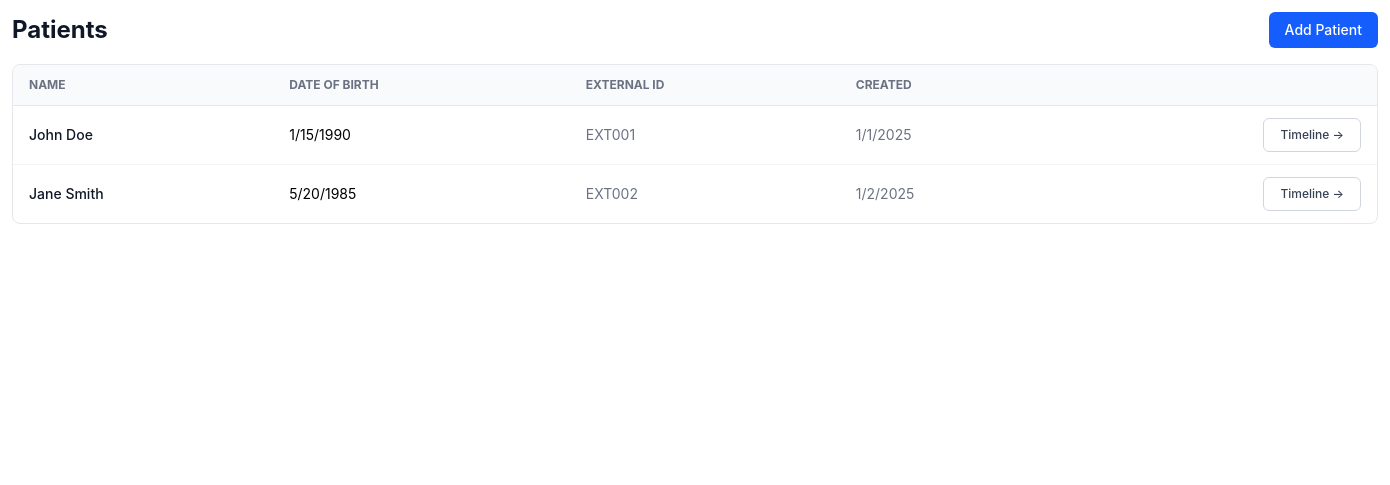
Patients page › shows add patient form when clicking Add Patient
Expected: the text "John Doe" is shown, [13,106,273,164]
Click the button "Add Patient". click: [1323, 30]
box: [1269,12,1378,48]
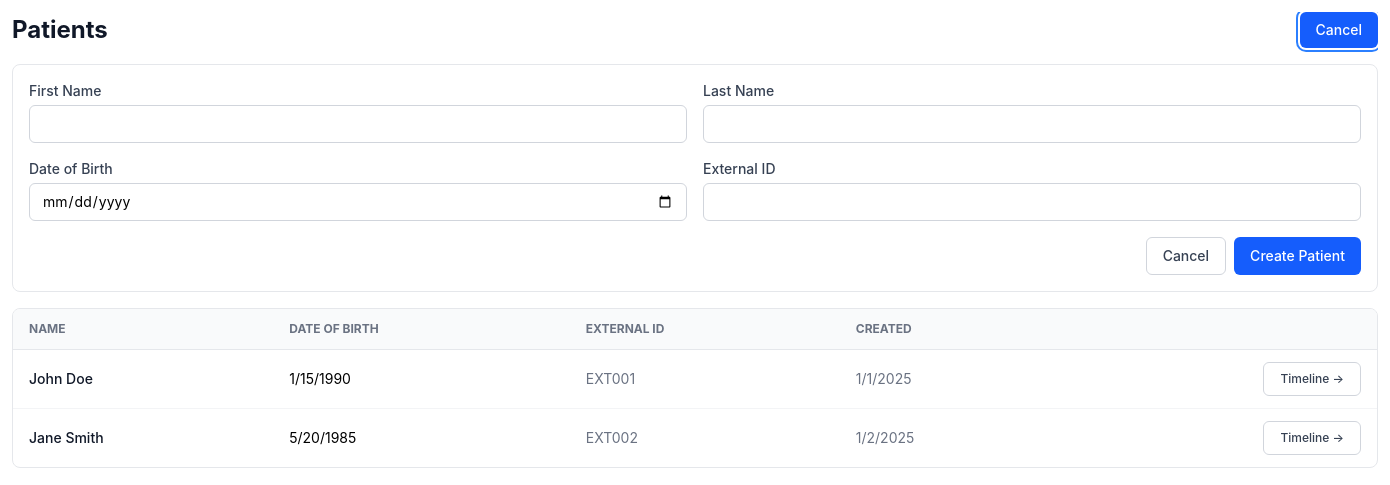
Expected: the field labelled "First Name" is shown, [29,105,687,143]
Expected: the field labelled "Last Name" is shown, [703,105,1361,143]
Expected: the date field labelled "Date of Birth" is shown, [29,183,687,221]
